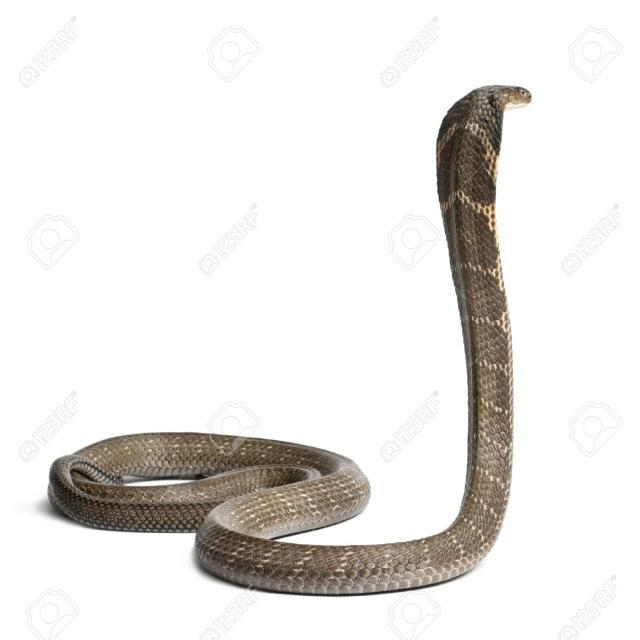Snake: (46, 82, 532, 596)
